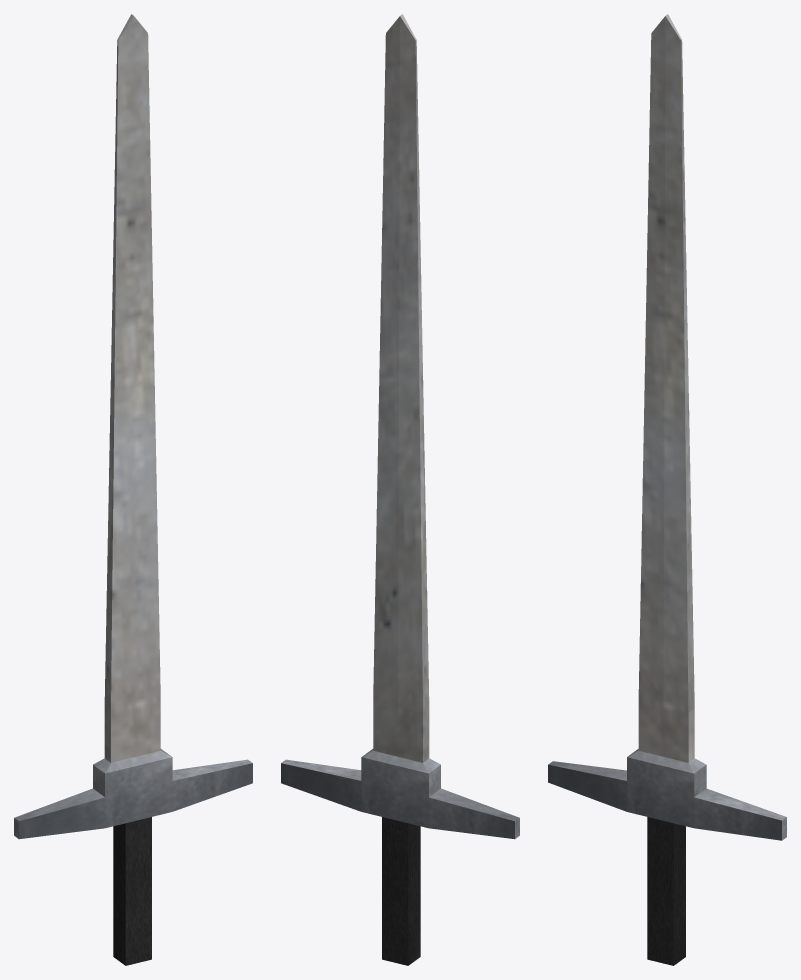
The model's file is sword.fbx.
3 renders of one model, left to right at view 1: azimuth 30°, elevation 25°; view 2: azimuth 150°, elevation 25°; view 3: azimuth 330°, elevation 25°, orthographic.
Visible parts, largest first — view 1: sword.col; view 2: sword.col; view 3: sword.col.
Boxes of the visible parts, box(x1,y1,x2,y2) form: sword.col: box(14, 14, 252, 965); sword.col: box(281, 14, 519, 965); sword.col: box(548, 14, 786, 965).
Size of the model in its own units: 22.14 by 85.31 by 2.02.
